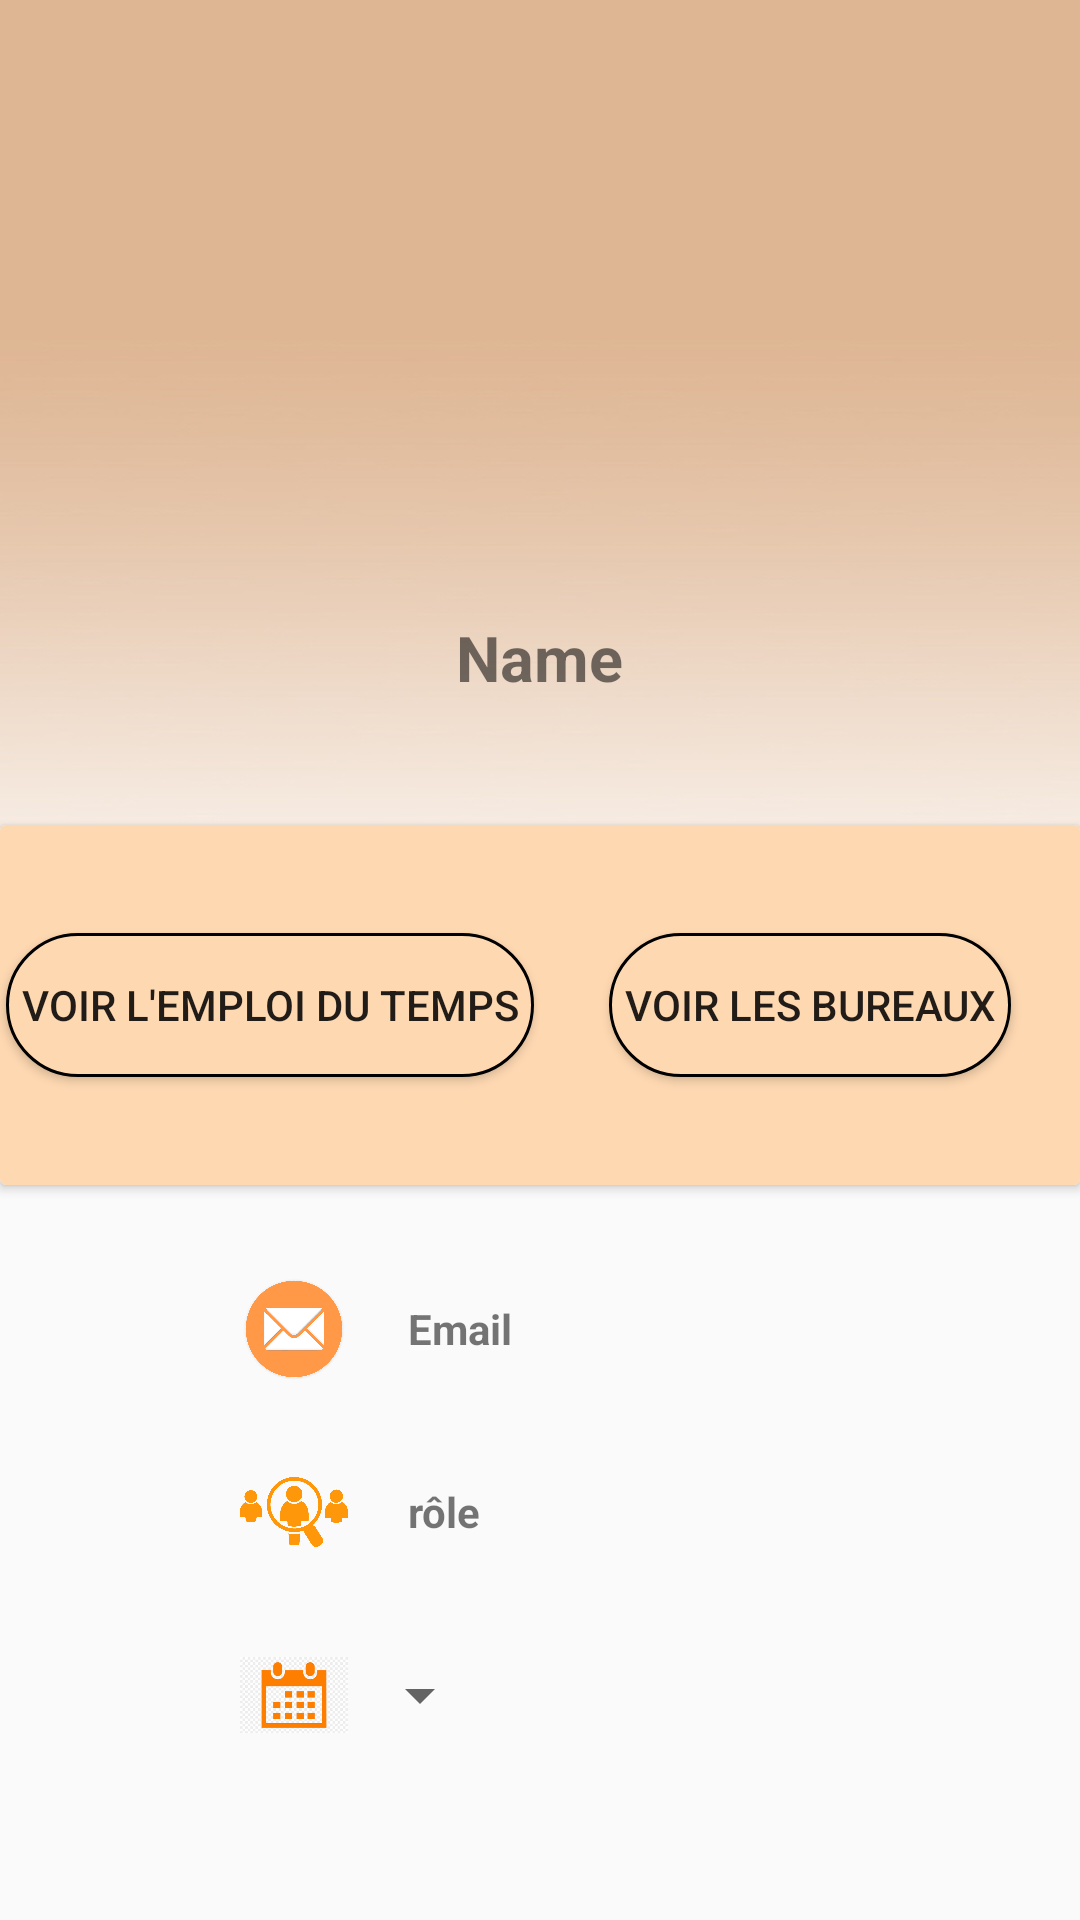

Where icons sit on this 1080 x 1920 app screen, as (x1, y1, x2, y2):
calendar: (261, 1662, 327, 1728)
role: (240, 1477, 348, 1547)
